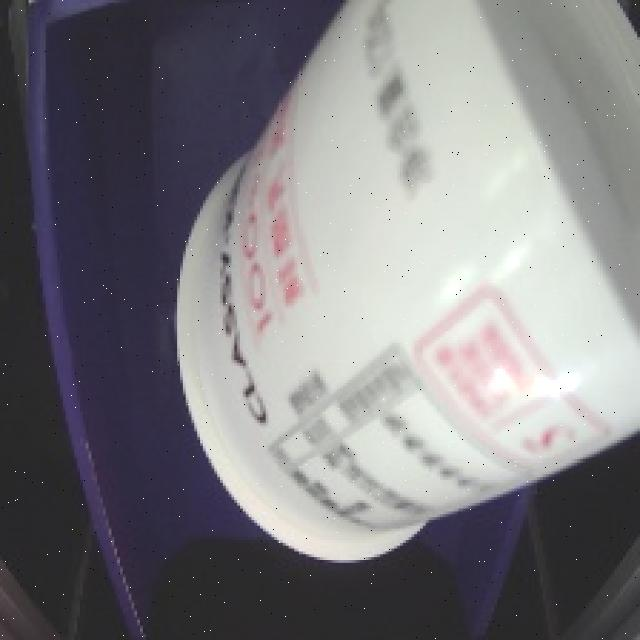cups: (166, 0, 640, 579)
